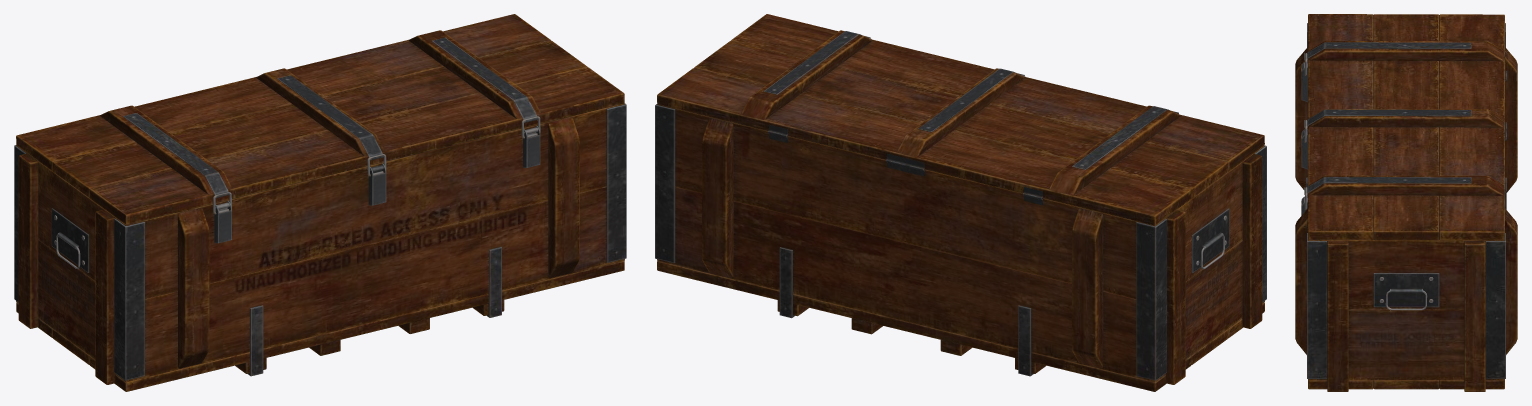
The model's file is deploy_boxlarge.glb.
3 views of the same model, side by side, from view 1: azimuth 30°, elevation 25°; view 2: azimuth 150°, elevation 25°; view 3: azimuth 270°, elevation 25° (orthographic). The views are drawn at different scales.
Parts seen in each view (by area): view 1: wooden_military_crate, wooden_military_crate_lid; view 2: wooden_military_crate, wooden_military_crate_lid; view 3: wooden_military_crate_lid, wooden_military_crate.
Part boxes in pixels (x1,y1,x2,y2): wooden_military_crate: (14,103,626,391); wooden_military_crate_lid: (16,14,624,224); wooden_military_crate: (655,104,1266,391); wooden_military_crate_lid: (657,14,1264,225); wooden_military_crate_lid: (1304,14,1506,240); wooden_military_crate: (1295,23,1517,391).
Size of the model in its own units: 1.44 by 0.5389 by 0.6026.
1 material, 1 textured.
